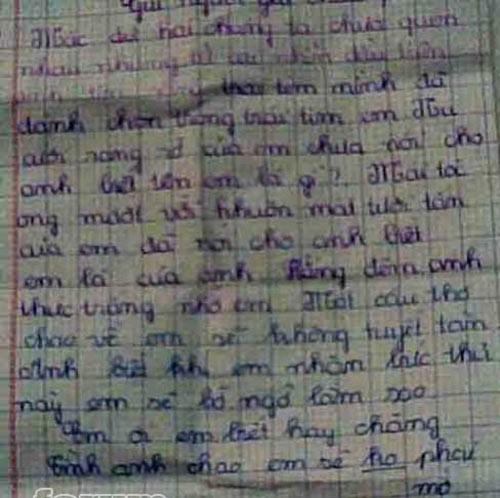text: (20, 123, 485, 178), (20, 308, 489, 358), (14, 188, 466, 239), (20, 246, 485, 295), (15, 338, 496, 385), (16, 280, 471, 328), (16, 156, 471, 202), (13, 95, 460, 141), (43, 435, 481, 481), (9, 68, 450, 113), (10, 379, 428, 424), (29, 10, 461, 51), (16, 219, 425, 262), (18, 41, 446, 81), (59, 410, 441, 451), (117, 0, 295, 25), (410, 476, 454, 498)
